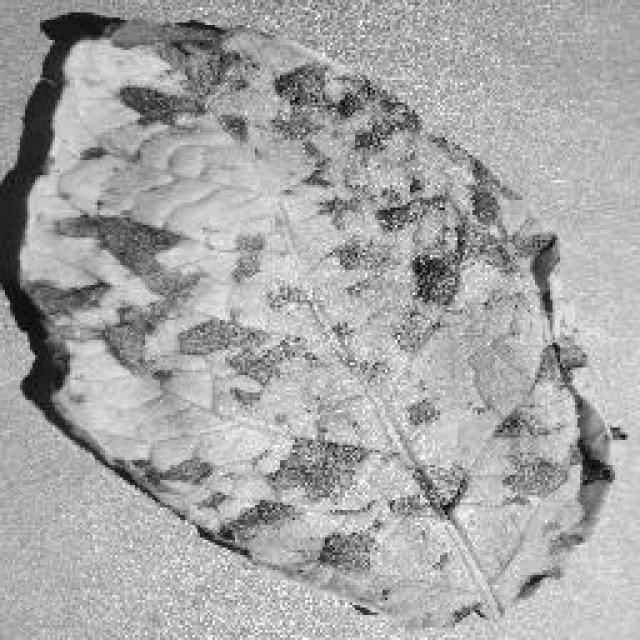Potato: (0, 8, 618, 630)
